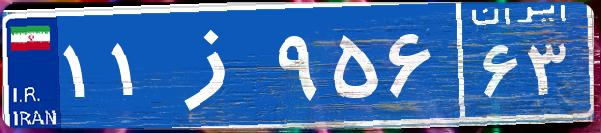1: (57, 26, 110, 107), (110, 28, 158, 105)
3: (525, 38, 570, 115)
5: (330, 28, 385, 110)
6: (385, 28, 445, 110), (475, 38, 525, 113)
9: (273, 28, 330, 110)
ز: (158, 15, 273, 115)
